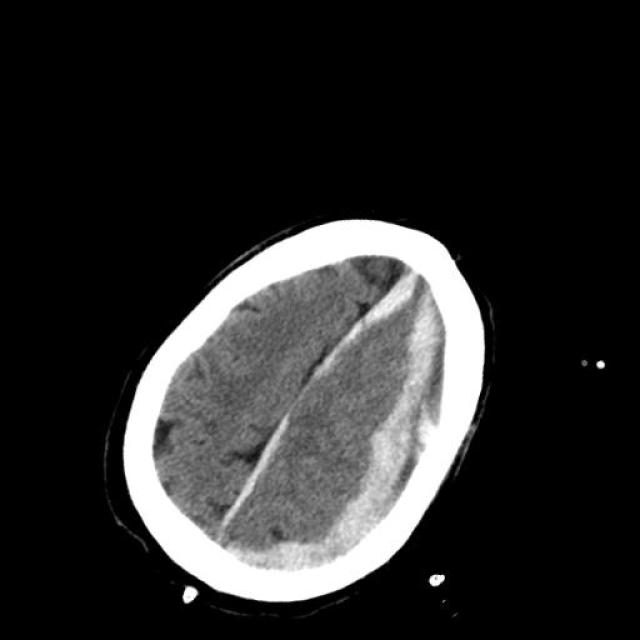Subdural: (219, 247, 552, 640), (290, 238, 426, 398), (190, 400, 301, 546)
